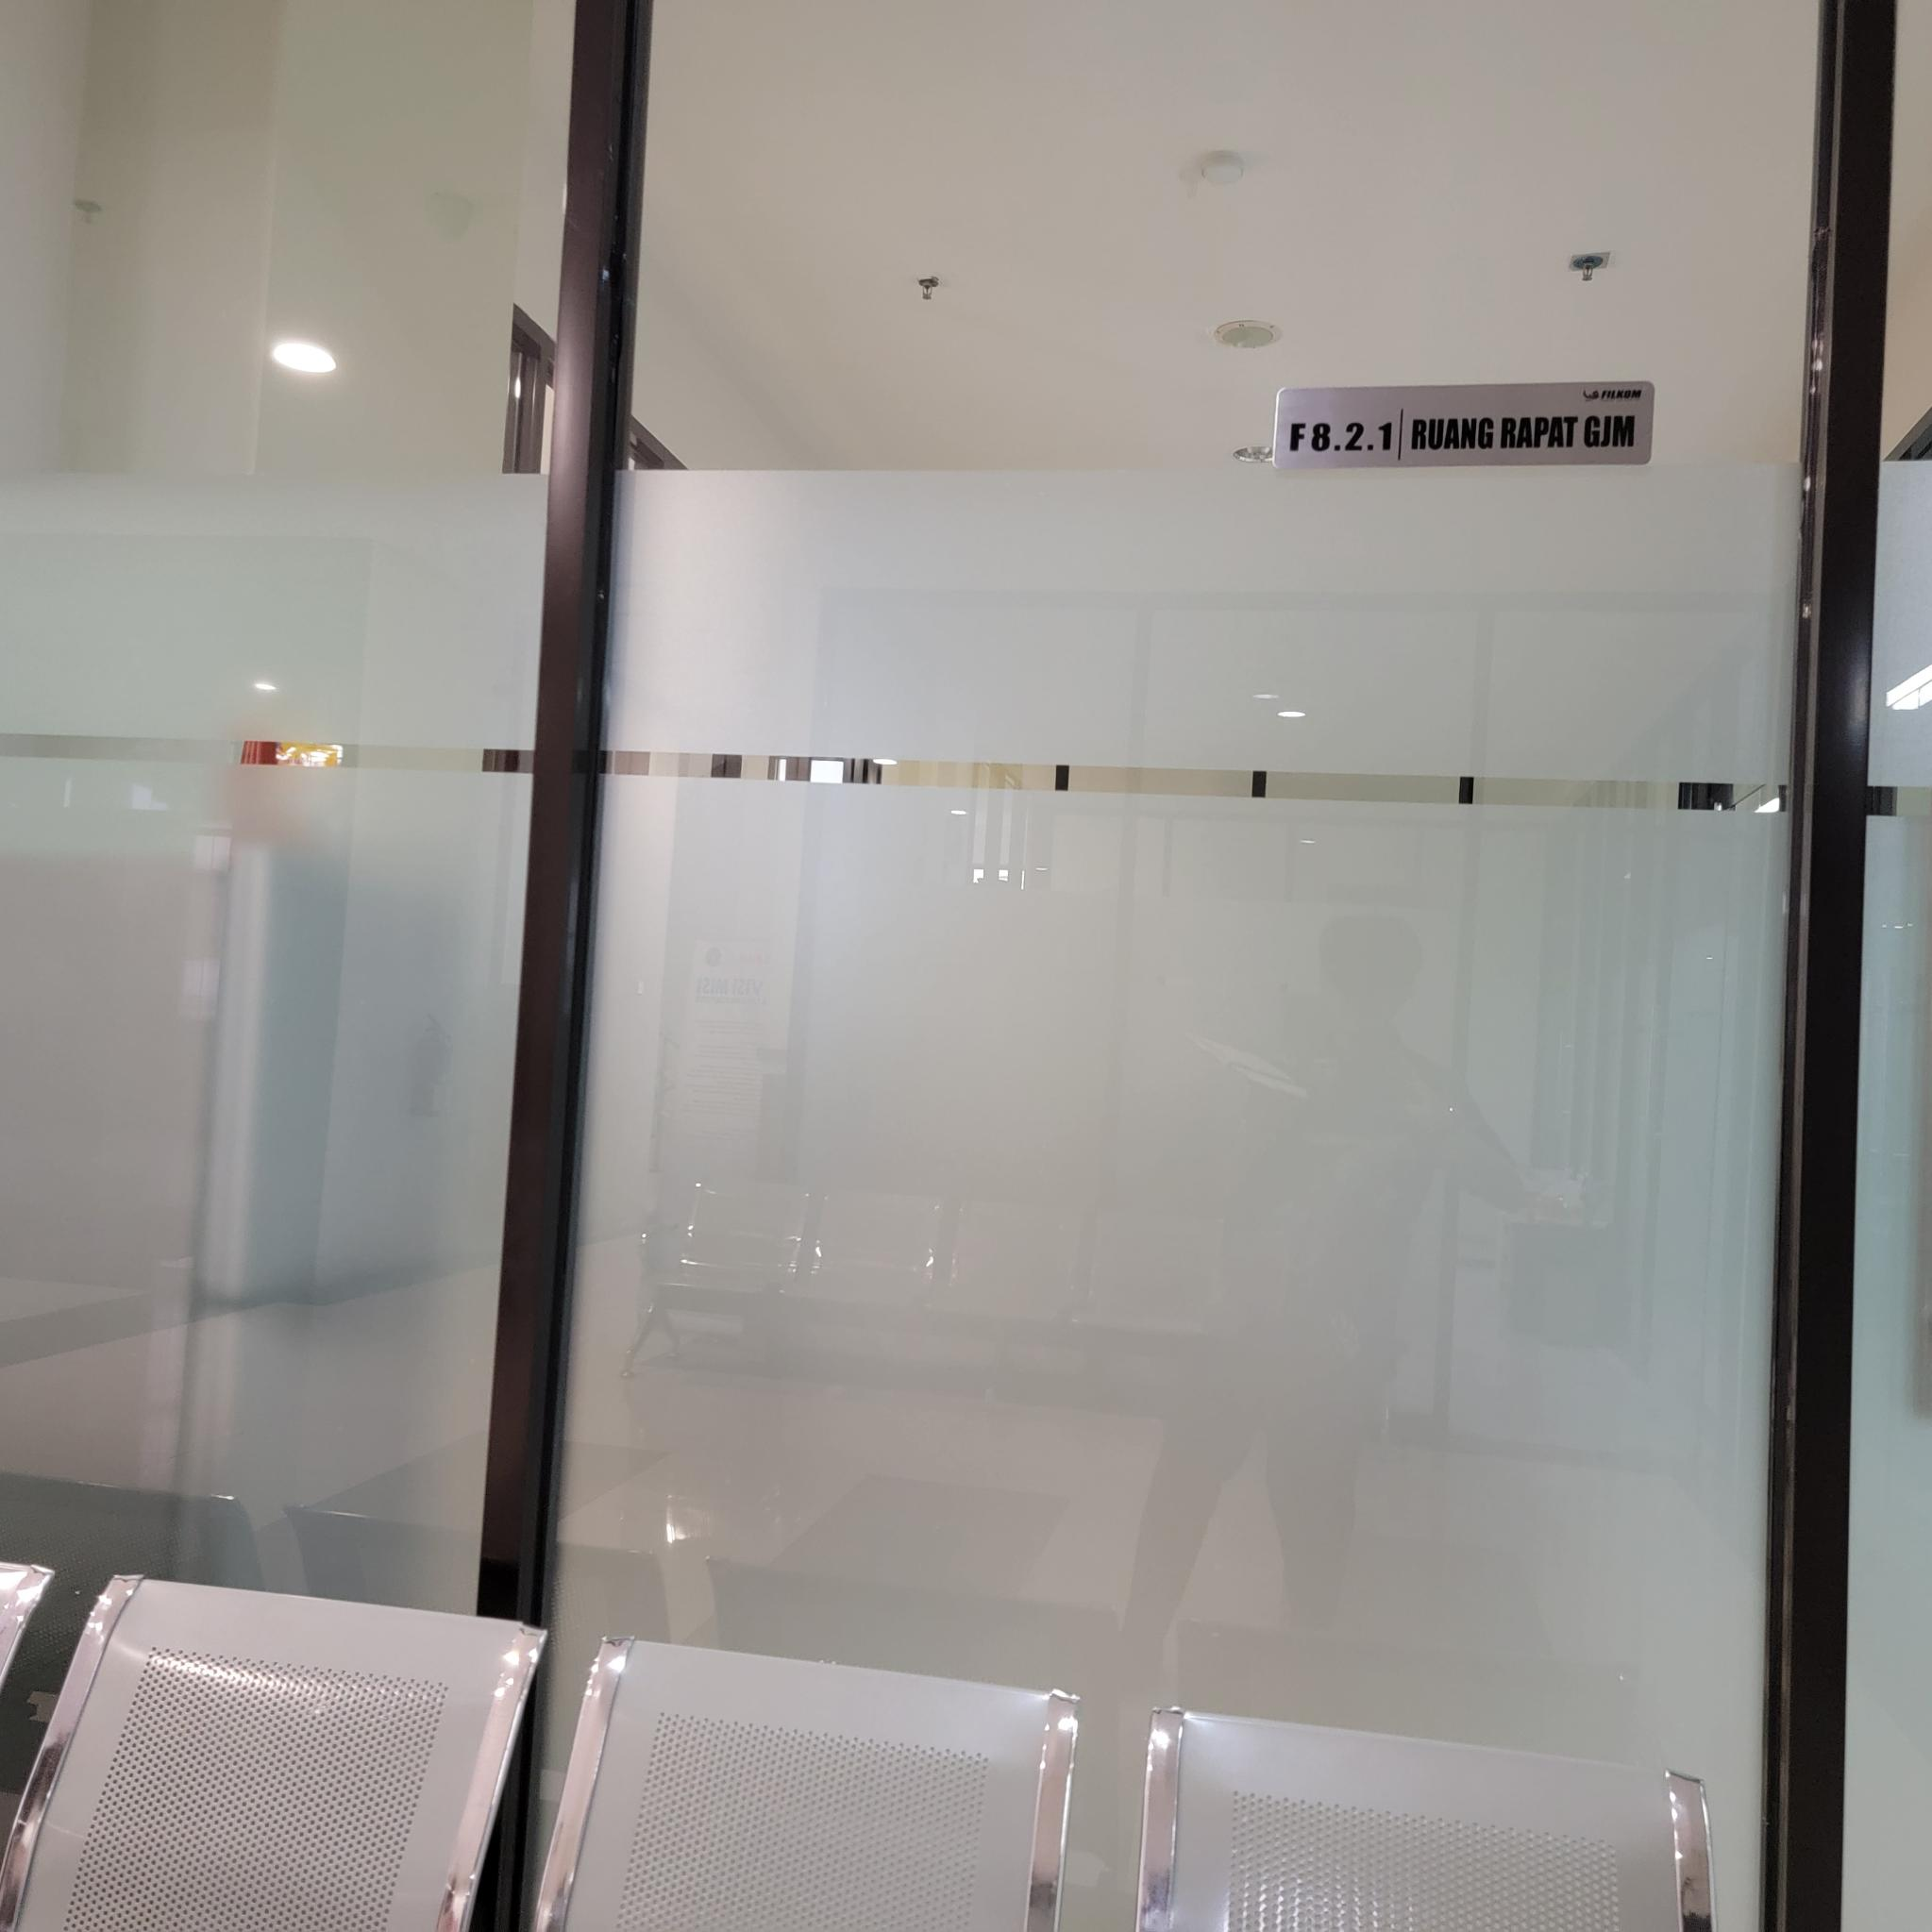plate: (1274, 379, 1654, 478)
